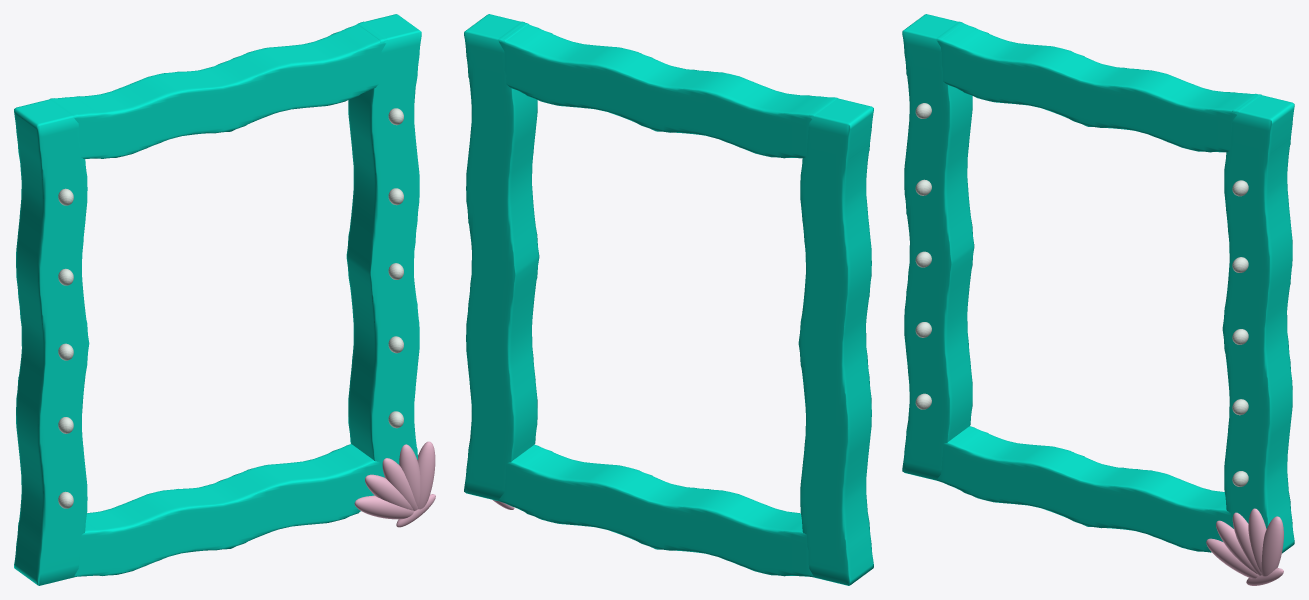
Rendered from marco.glb.
3 views of the same model, side by side, from view 1: azimuth 30°, elevation 25°; view 2: azimuth 150°, elevation 25°; view 3: azimuth 330°, elevation 25° (orthographic). The views are drawn at different scales.
Visible parts, largest first — view 1: Cube.001, Sphere.003; view 2: Cube.001; view 3: Cube.001, Sphere.003.
Part boxes in pixels (<box>): Cube.001: <box>14,14,421,585</box>; Sphere.003: <box>354,441,435,527</box>; Cube.001: <box>464,14,873,585</box>; Cube.001: <box>902,14,1294,553</box>; Sphere.003: <box>1206,508,1283,585</box>.
Bounding box in the file's own units: 3.31 × 3.9 × 0.4662.
